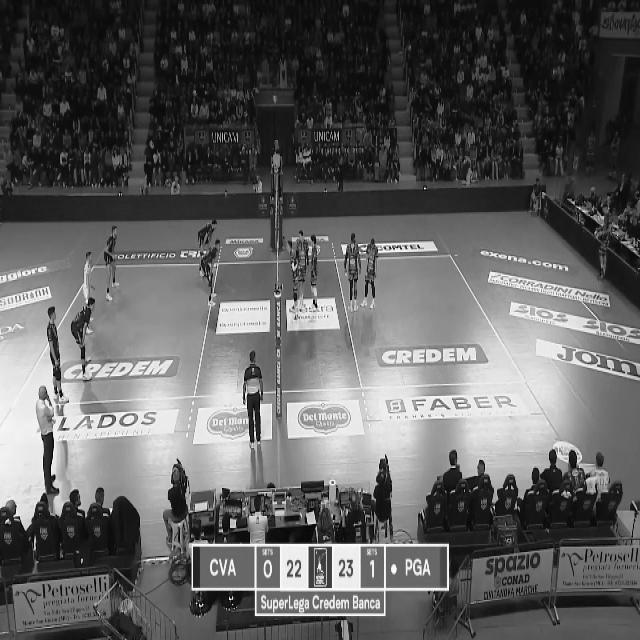volleyball court: (36, 253, 529, 404)
